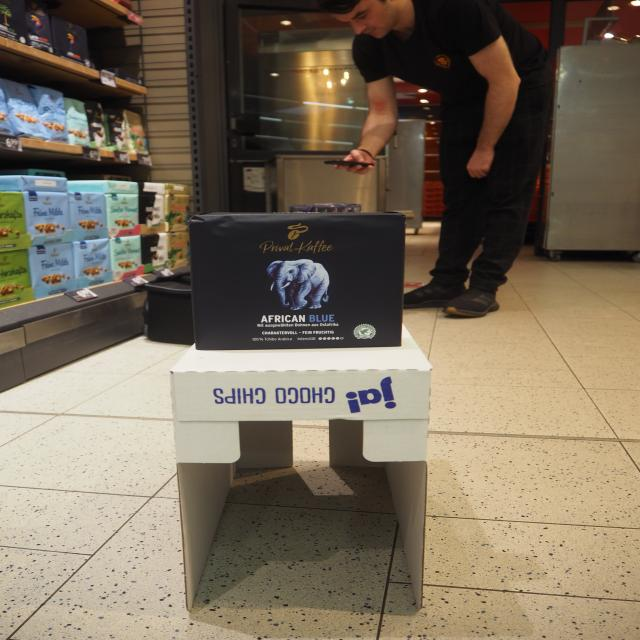AB Gemahlen: (182, 212, 408, 352)
